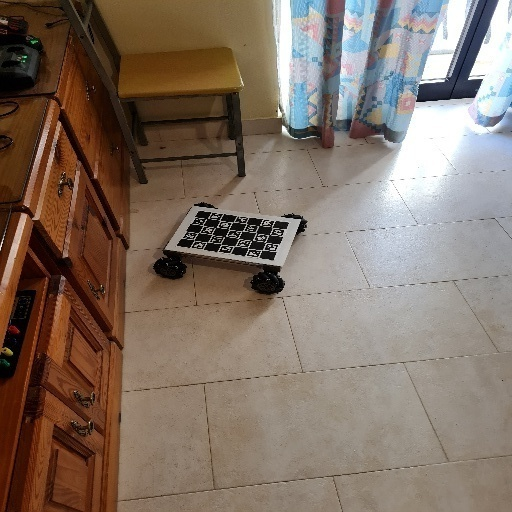Omniwheel: (153, 200, 308, 294)
